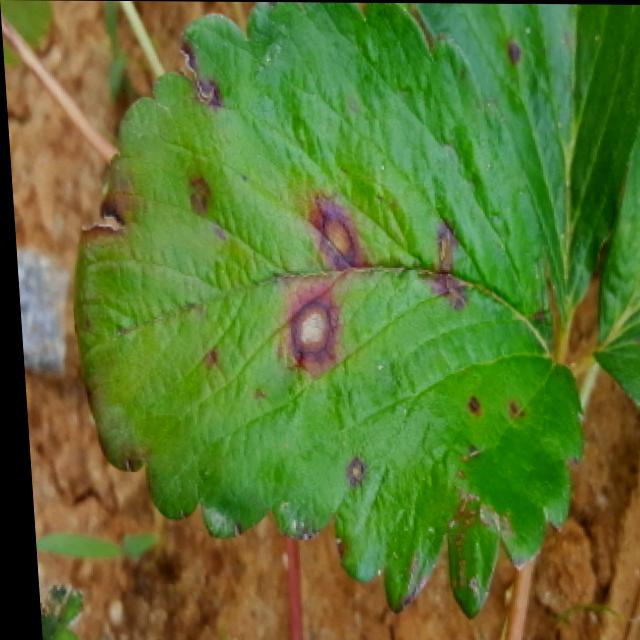Leaf Spot: (67, 1, 579, 623), (415, 2, 640, 331)
